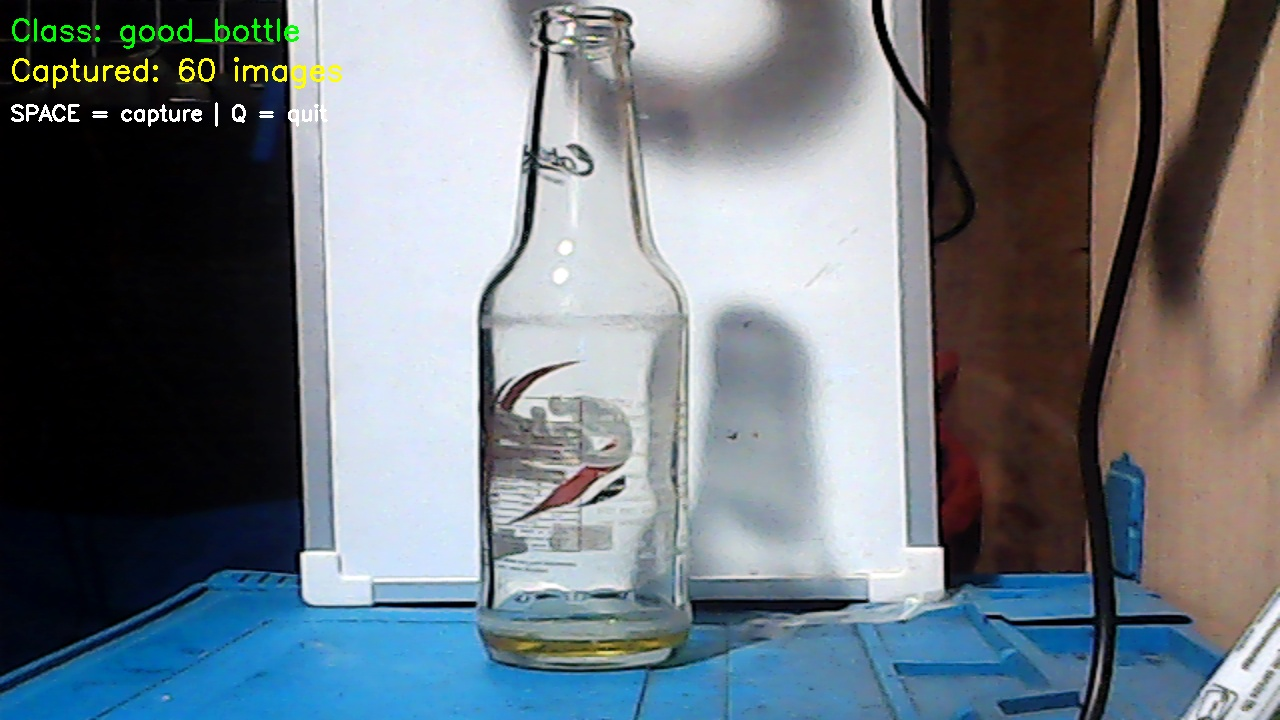good_bottle: (404, 3, 722, 690)
